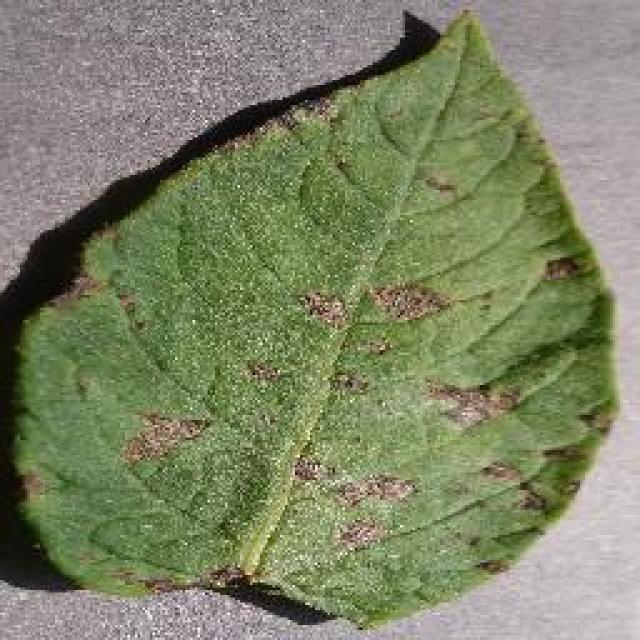Potato: (5, 5, 620, 630)
